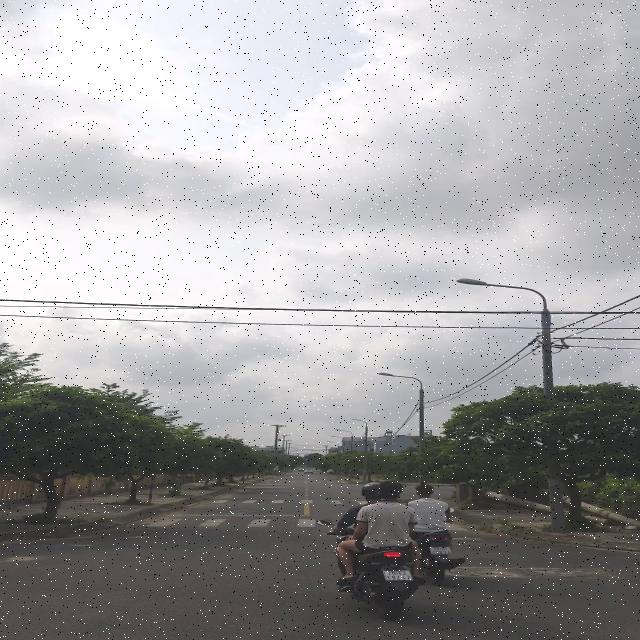helmet: (361, 482, 379, 500)
no_helmet: (411, 479, 438, 499)
